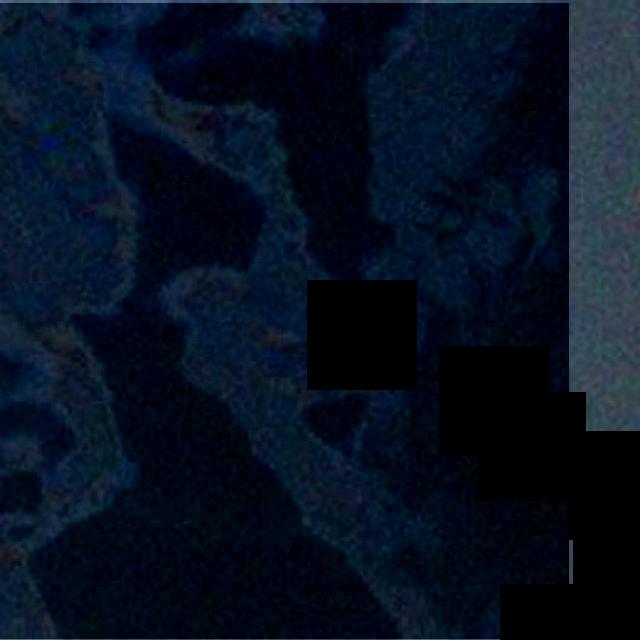oil spill: (0, 4, 569, 640)
